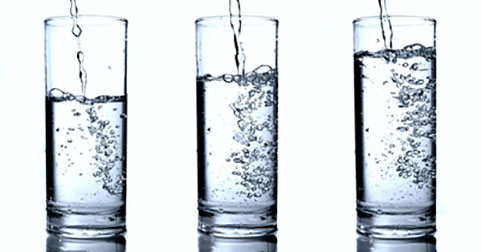glass of water: (194, 15, 279, 239), (42, 13, 128, 233), (352, 15, 435, 238)
